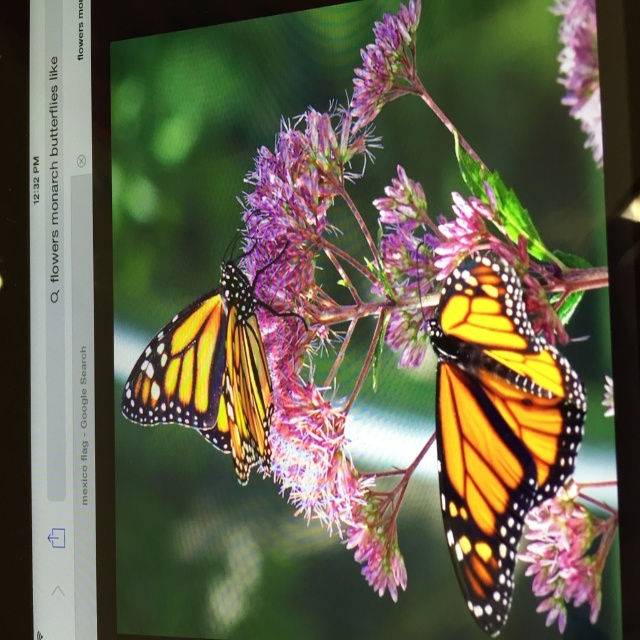Butterfly: (425, 246, 578, 633), (123, 232, 308, 491)
